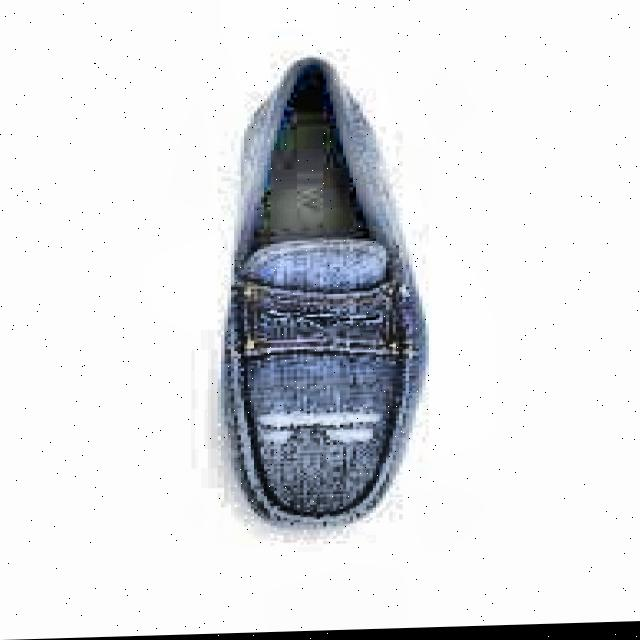shoes: (147, 37, 484, 541)
